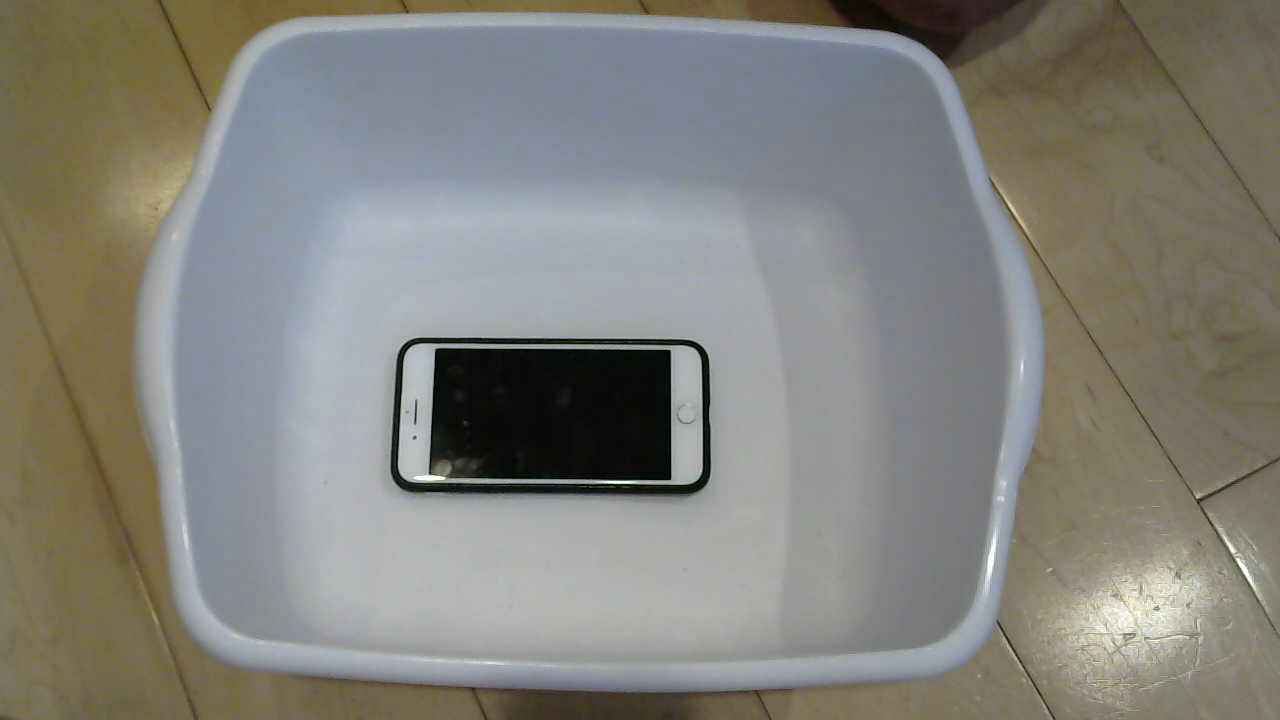phone: (351, 320, 725, 513)
